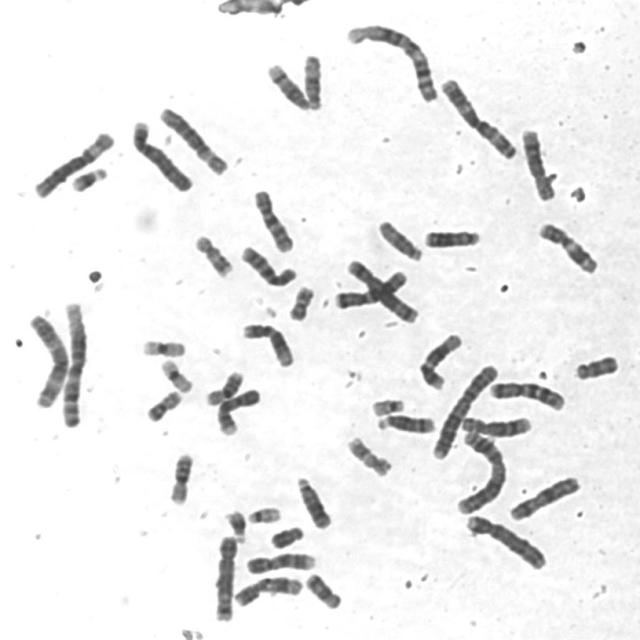A1: (340, 16, 441, 105), (55, 295, 89, 429)
A2: (426, 358, 499, 461), (450, 425, 508, 515)
A3: (435, 72, 520, 160), (23, 308, 70, 411)
B4: (460, 508, 550, 572), (126, 114, 195, 194)
B5: (342, 254, 421, 325), (208, 529, 240, 623)
C10: (247, 183, 296, 254), (234, 239, 299, 289)
C11: (532, 217, 601, 276), (228, 570, 304, 609)
C12: (414, 327, 464, 391), (236, 316, 296, 368)
C6: (27, 124, 117, 200), (154, 100, 230, 177)
C7: (329, 265, 409, 310), (484, 375, 568, 412)
C8: (515, 122, 558, 202), (455, 409, 534, 438)
C9: (212, 382, 262, 437), (240, 546, 318, 576)
D13: (290, 471, 334, 530), (418, 223, 483, 250)
D14: (262, 57, 312, 112), (372, 409, 438, 435)
D15: (372, 214, 425, 263), (298, 48, 324, 112)
E16: (199, 364, 246, 407), (163, 446, 196, 506)
E17: (342, 430, 394, 478), (188, 228, 235, 279)
E18: (300, 567, 344, 610), (569, 349, 621, 382)
F19: (155, 354, 195, 394), (136, 332, 188, 358)
F20: (140, 384, 184, 423), (283, 280, 317, 322)
G21: (64, 160, 110, 193), (219, 503, 249, 543)
G22: (242, 500, 283, 525), (366, 392, 406, 417)
X: (504, 470, 584, 522)
Y: (265, 519, 306, 550)
